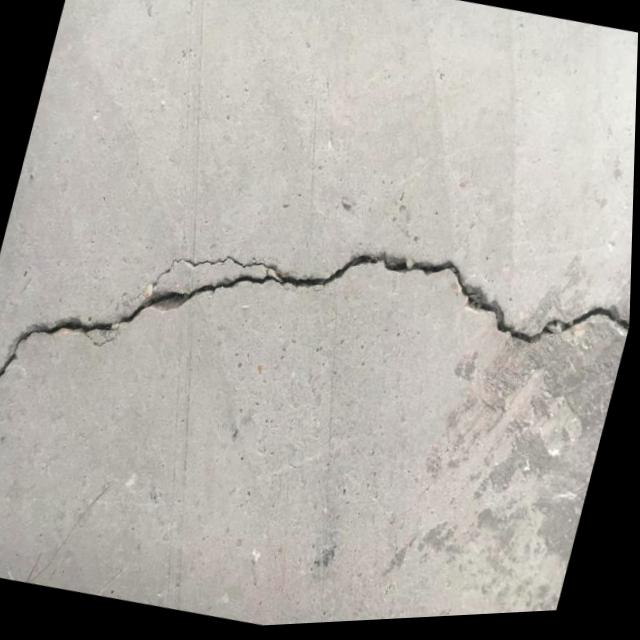Crack: (0, 136, 636, 529)
